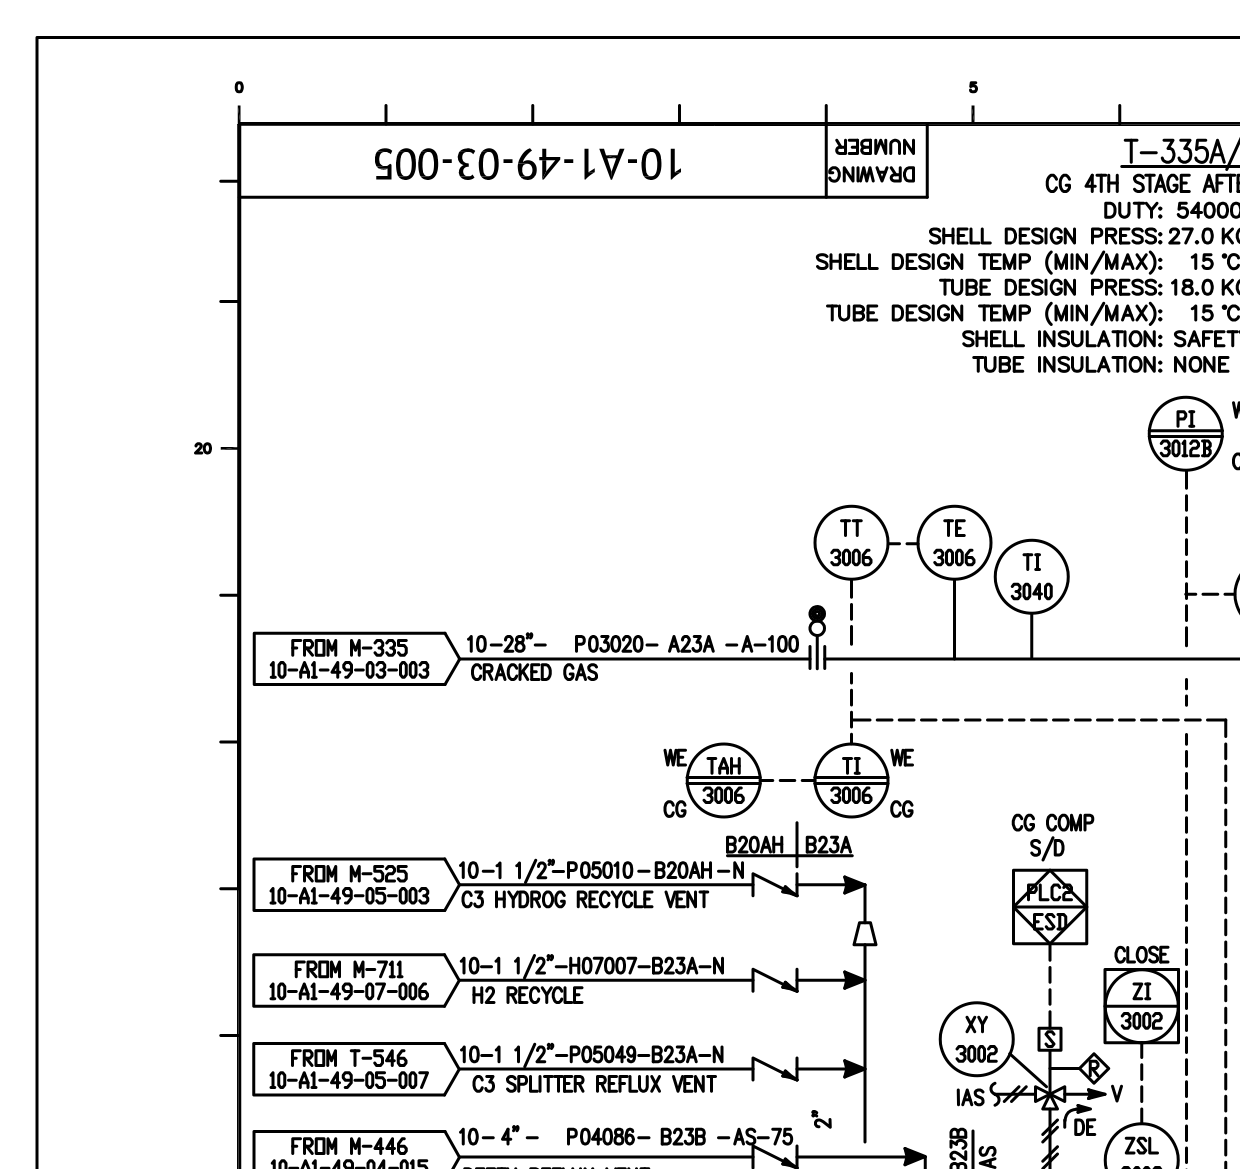Check Valve: (747, 868, 803, 904), (746, 964, 802, 1000), (746, 1050, 802, 1085), (747, 1144, 804, 1169)
Instrument Tag: (1101, 967, 1184, 1049), (988, 538, 1073, 617), (914, 502, 993, 584), (814, 502, 890, 584), (939, 1000, 1015, 1082)
Line Number: (457, 1124, 798, 1147), (466, 633, 803, 654), (459, 858, 748, 880), (453, 953, 741, 975), (457, 1043, 746, 1065)
Page In: (247, 851, 465, 916), (244, 1038, 462, 1102), (250, 627, 468, 691), (246, 948, 463, 1012)
Reducer: (848, 915, 883, 951)
Spetacle Blind: (802, 600, 835, 675)
